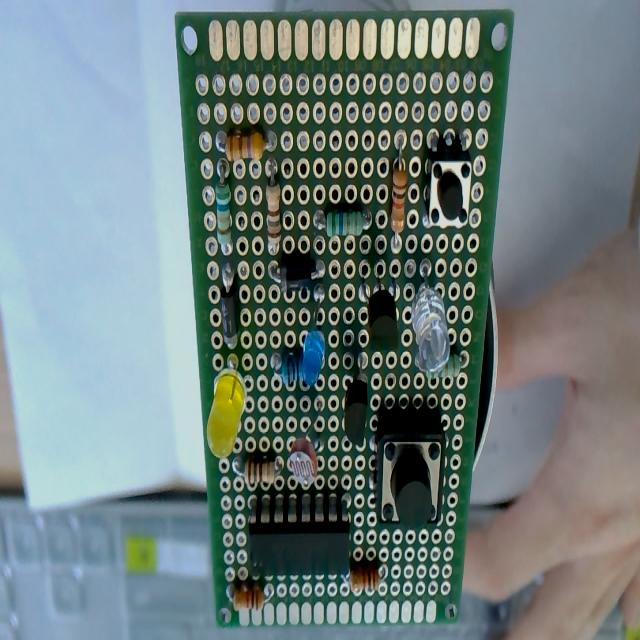IC: (250, 495, 351, 577)
cds: (288, 436, 318, 488)
diode: (274, 254, 323, 292), (220, 274, 240, 352)
led: (205, 352, 248, 458), (411, 283, 450, 373), (302, 289, 326, 386)
resistor: (212, 170, 236, 254), (390, 150, 408, 250), (232, 451, 280, 485), (227, 580, 271, 615), (265, 159, 281, 253), (324, 207, 364, 236), (348, 560, 380, 596), (425, 351, 461, 382), (227, 132, 264, 162)
switch: (375, 410, 445, 530), (424, 138, 472, 230)
transistor: (356, 266, 401, 352), (346, 352, 372, 442)
